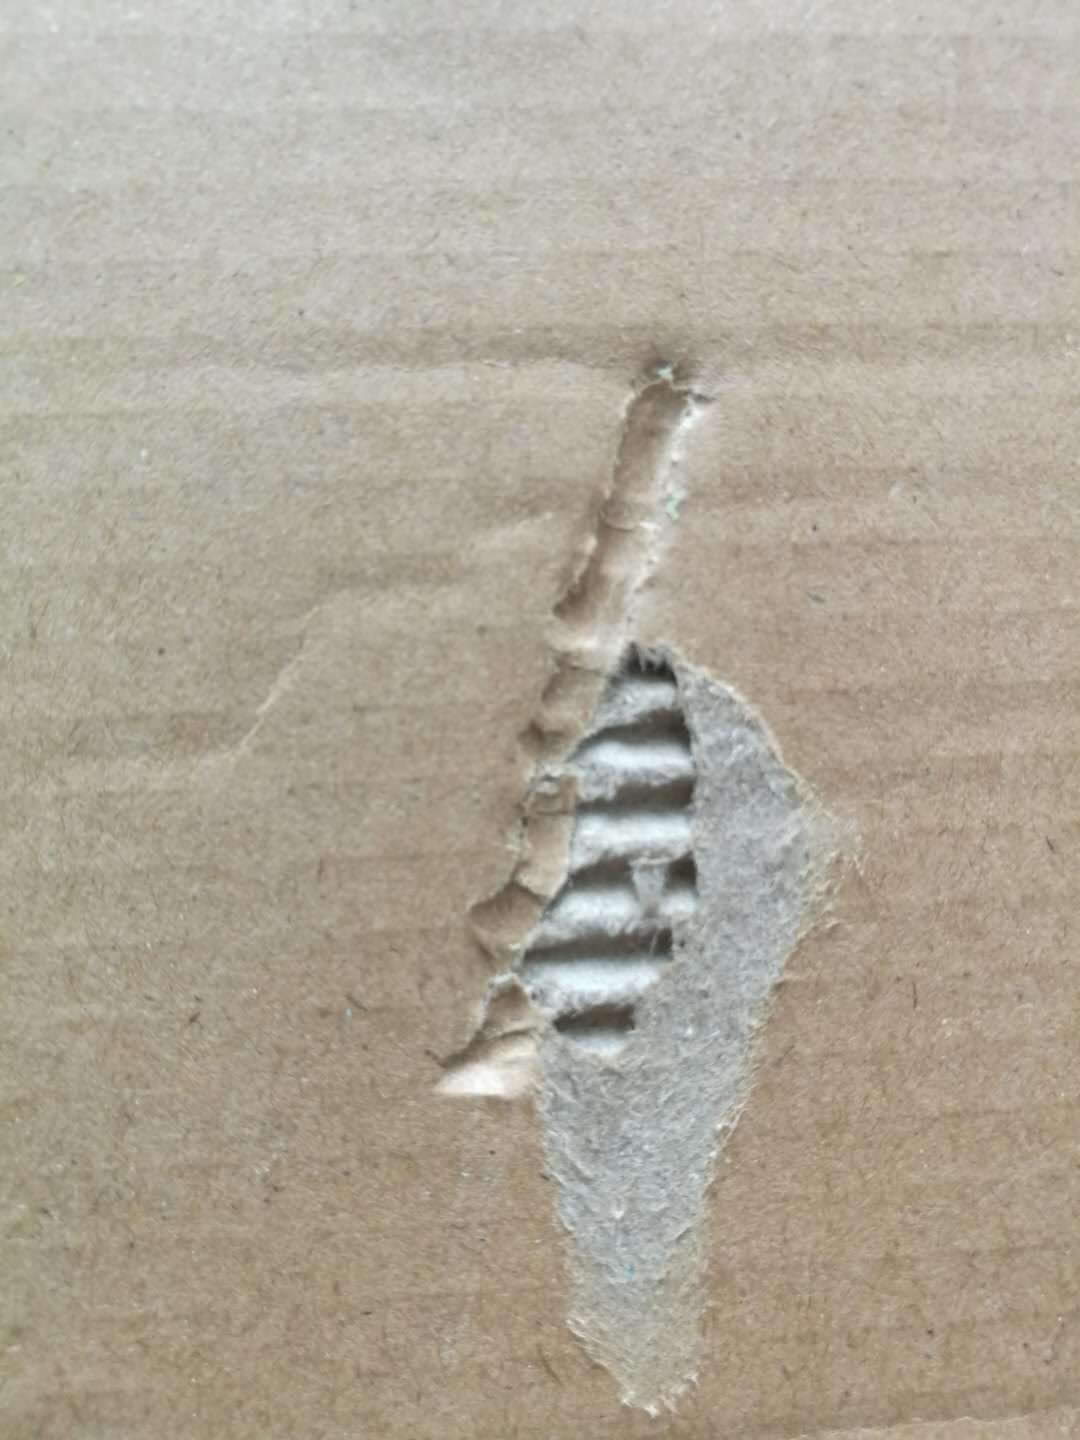defect: (411, 316, 868, 1424)
